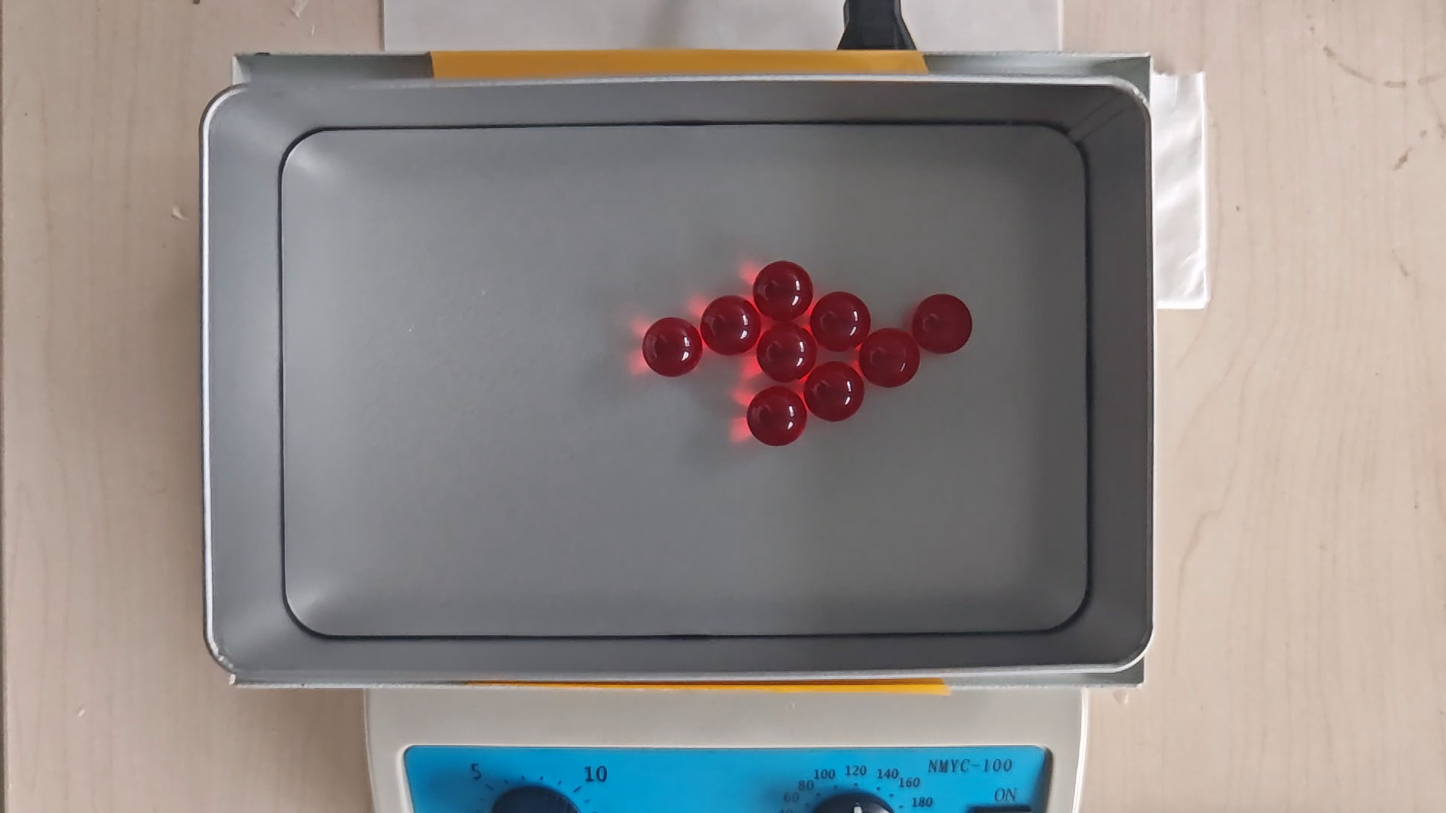ball: (859, 325, 920, 391), (751, 259, 815, 321), (914, 293, 974, 357), (698, 294, 759, 356), (804, 361, 865, 423), (810, 290, 871, 352), (746, 386, 807, 447), (756, 323, 817, 383), (644, 316, 702, 379)
container: (276, 123, 1088, 635)
